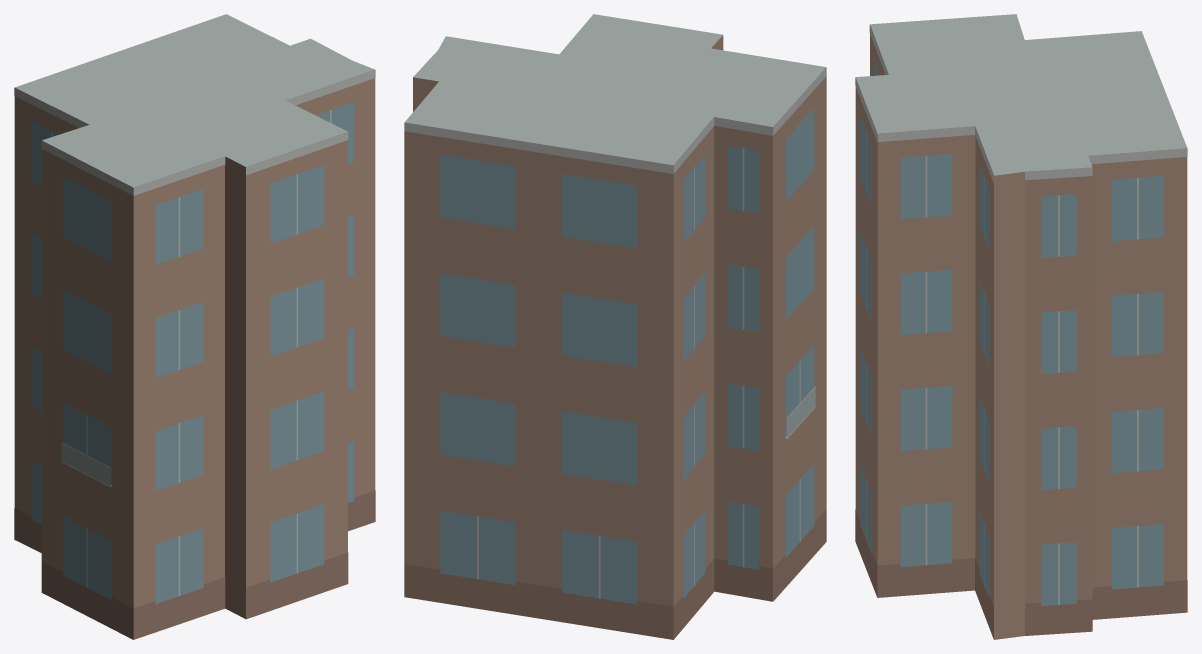
The model's file is survey-upis-32458457.glb.
3 views of the same model, side by side, from view 1: azimuth 30°, elevation 25°; view 2: azimuth 150°, elevation 25°; view 3: azimuth 270°, elevation 25° (orthographic). The views are drawn at different scales.
Visible parts, largest first — view 1: survey-upis-32458457.tmp; view 2: survey-upis-32458457.tmp; view 3: survey-upis-32458457.tmp.
Part boxes in pixels (box(x1,y1,x2,y2)): survey-upis-32458457.tmp: box(14, 14, 375, 639); survey-upis-32458457.tmp: box(404, 14, 826, 639); survey-upis-32458457.tmp: box(855, 14, 1187, 639).
Bounding box in the file's own units: 9.9 × 13.25 × 8.6.
